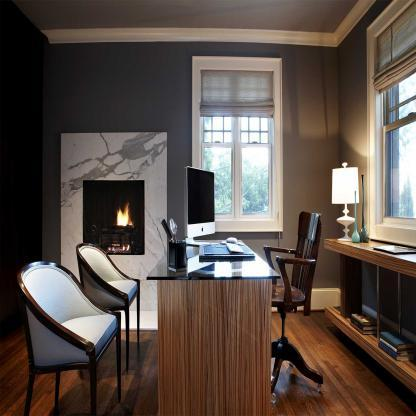chair: (14, 259, 127, 416), (264, 207, 332, 399), (74, 245, 145, 352)
light: (327, 163, 365, 247)
table: (149, 233, 280, 416)
